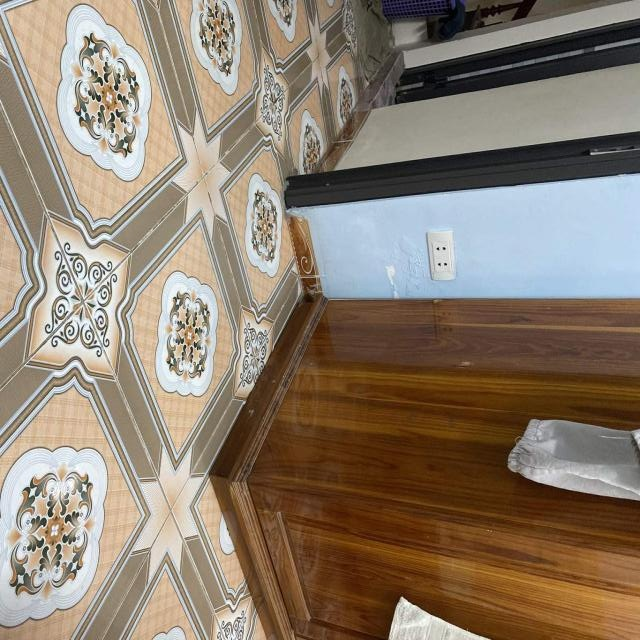outlet: (427, 230, 456, 281)
